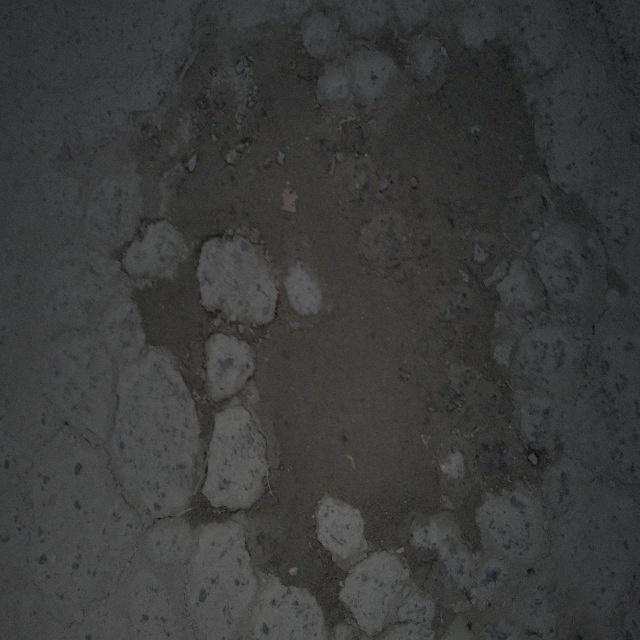pothole: (125, 20, 561, 588)
